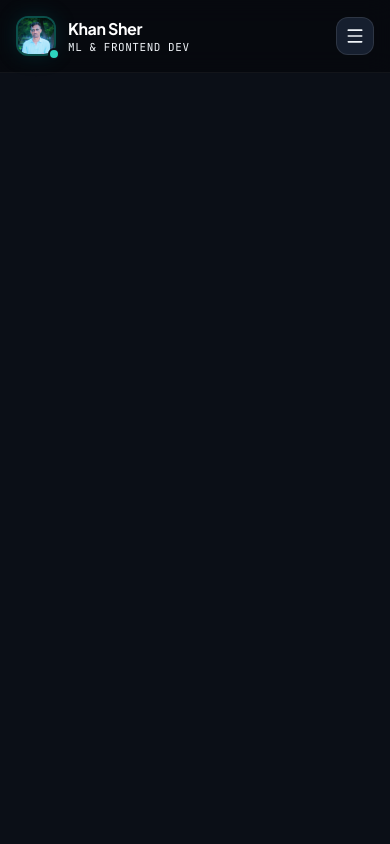
Test: Khan Sher Portfolio - Multi-Page Routing & Verification Suite › 2. Navigation Bar & Mobile Drawer › toggles mobile menu open and closed
Click the button named "Toggle navigation menu".
click(355, 36)  # box [336,17,374,55]
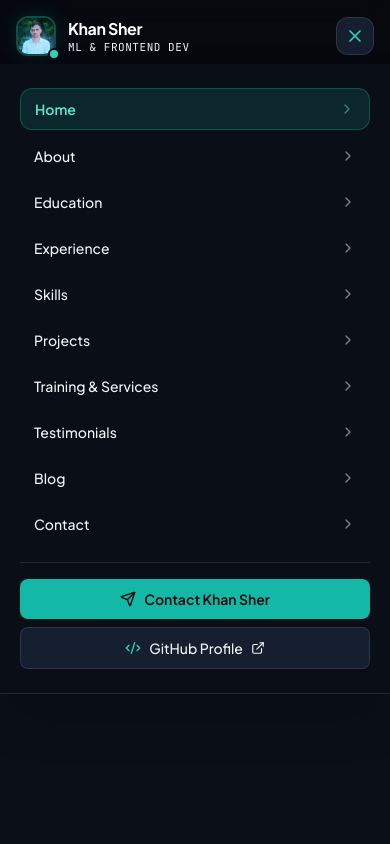
expect the text "Contact Khan Sher" is shown: met, box [144,589,270,609]
Click the button named "Toggle navigation menu".
click(355, 36)  # box [336,17,374,55]
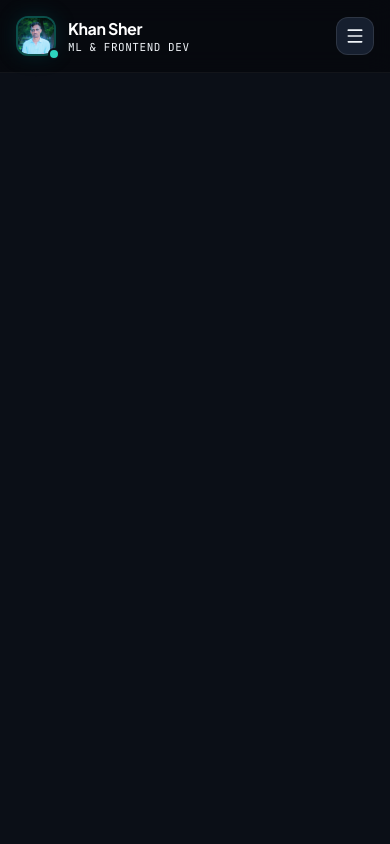
expect the link "Contact Khan Sher" is gone: met
